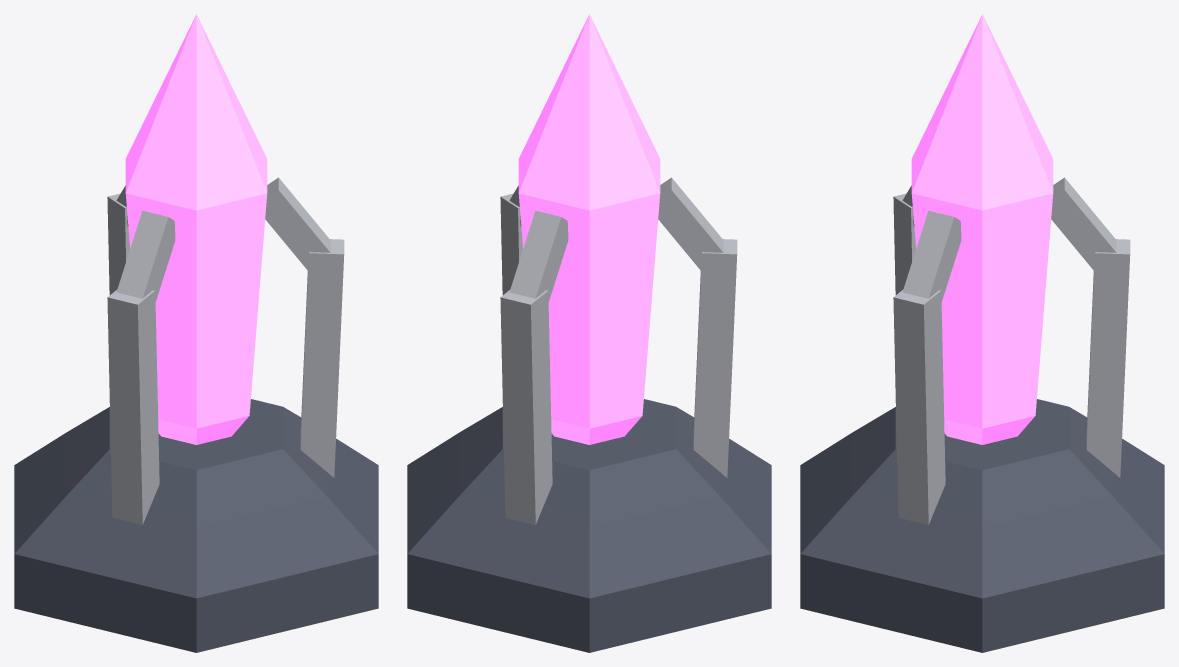
File: memory-core.glb
3 renders of one model, left to right at view 1: azimuth 30°, elevation 25°; view 2: azimuth 150°, elevation 25°; view 3: azimuth 270°, elevation 25°, orthographic.
Parts seen in each view (by area): view 1: Clamp base, Power crystal, Clamp prongs; view 2: Clamp base, Power crystal, Clamp prongs; view 3: Clamp base, Power crystal, Clamp prongs.
Boxes of the visible parts, <box> form: Clamp base: <box>14,399,378,652</box>; Power crystal: <box>125,14,267,444</box>; Clamp prongs: <box>107,177,344,524</box>; Clamp base: <box>407,399,771,652</box>; Power crystal: <box>518,14,660,444</box>; Clamp prongs: <box>500,177,737,524</box>; Clamp base: <box>800,399,1164,652</box>; Power crystal: <box>911,14,1053,444</box>; Clamp prongs: <box>893,177,1130,524</box>.
Size of the model in its own units: 0.84 by 1.21 by 0.7275.
